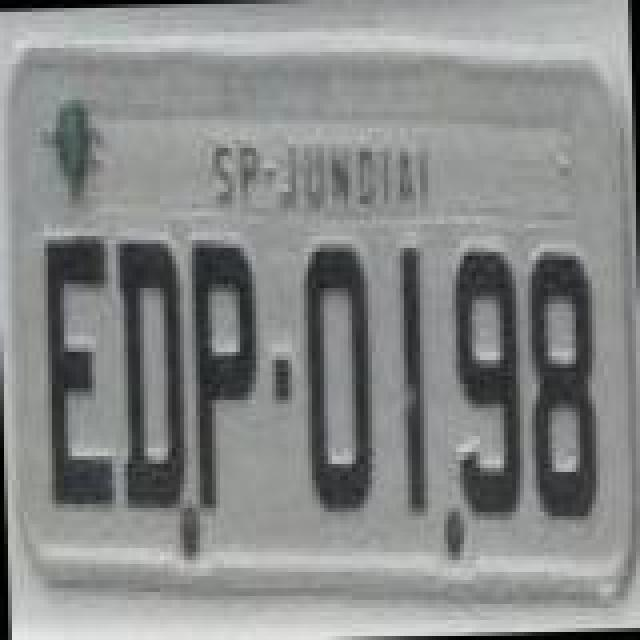1: (400, 242, 432, 518)
8: (526, 246, 602, 522)
9: (450, 246, 526, 522)
D: (114, 238, 190, 514)
E: (42, 232, 118, 512)
O: (302, 238, 378, 514)
P: (188, 240, 260, 512)
